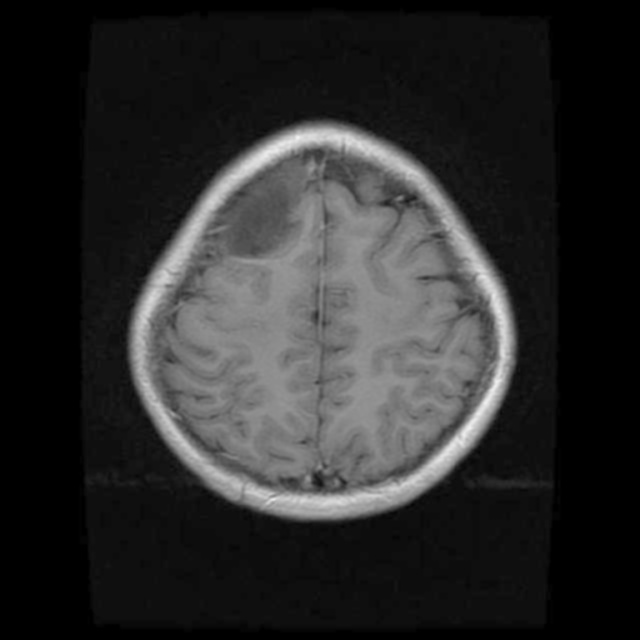pituitary tumor: (215, 182, 295, 255)
